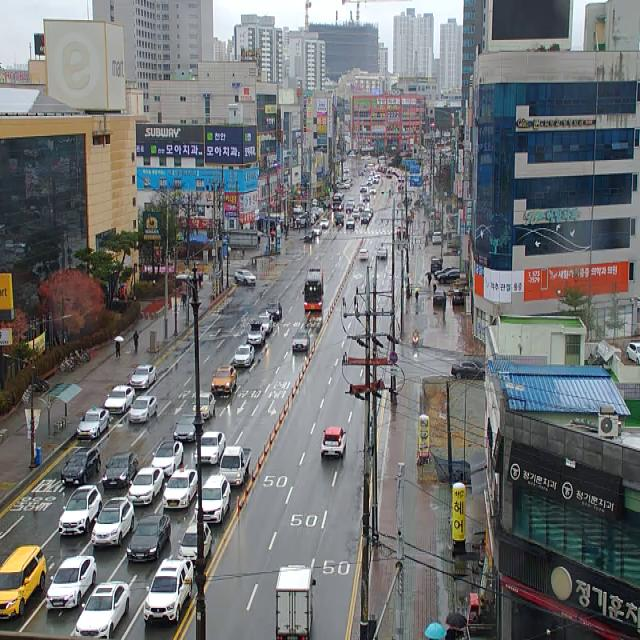Bus: (302, 268, 323, 311), (332, 192, 344, 211)
Car: (0, 546, 46, 618), (144, 560, 194, 626), (74, 582, 130, 640), (47, 556, 97, 610), (59, 486, 102, 537), (126, 514, 170, 563), (91, 497, 134, 547), (195, 475, 231, 526), (61, 447, 101, 486), (162, 468, 198, 509), (178, 523, 212, 565), (128, 468, 164, 506), (220, 447, 252, 488), (102, 452, 138, 488), (76, 406, 109, 439), (150, 442, 183, 475), (195, 432, 225, 466), (104, 386, 135, 415), (211, 365, 237, 396), (129, 396, 157, 424), (321, 427, 346, 457), (130, 363, 157, 390), (193, 392, 216, 420), (174, 415, 196, 442), (451, 362, 485, 379), (234, 343, 254, 367), (292, 330, 310, 351), (248, 324, 265, 346), (234, 270, 256, 286), (437, 269, 460, 284), (256, 314, 273, 334), (266, 302, 282, 322), (627, 343, 640, 364), (434, 267, 456, 279), (433, 289, 446, 306), (453, 290, 464, 306), (376, 246, 388, 259), (431, 259, 442, 273), (304, 230, 316, 242), (432, 232, 442, 245), (359, 249, 369, 261), (396, 226, 406, 237), (320, 218, 329, 230), (346, 218, 355, 230), (312, 225, 322, 235), (336, 214, 344, 226), (352, 209, 360, 220), (361, 214, 369, 224), (348, 197, 355, 208), (357, 203, 365, 212), (346, 203, 353, 213), (364, 210, 371, 218)
Motorcycle: (407, 318, 423, 352)
Truck: (276, 565, 316, 640)
